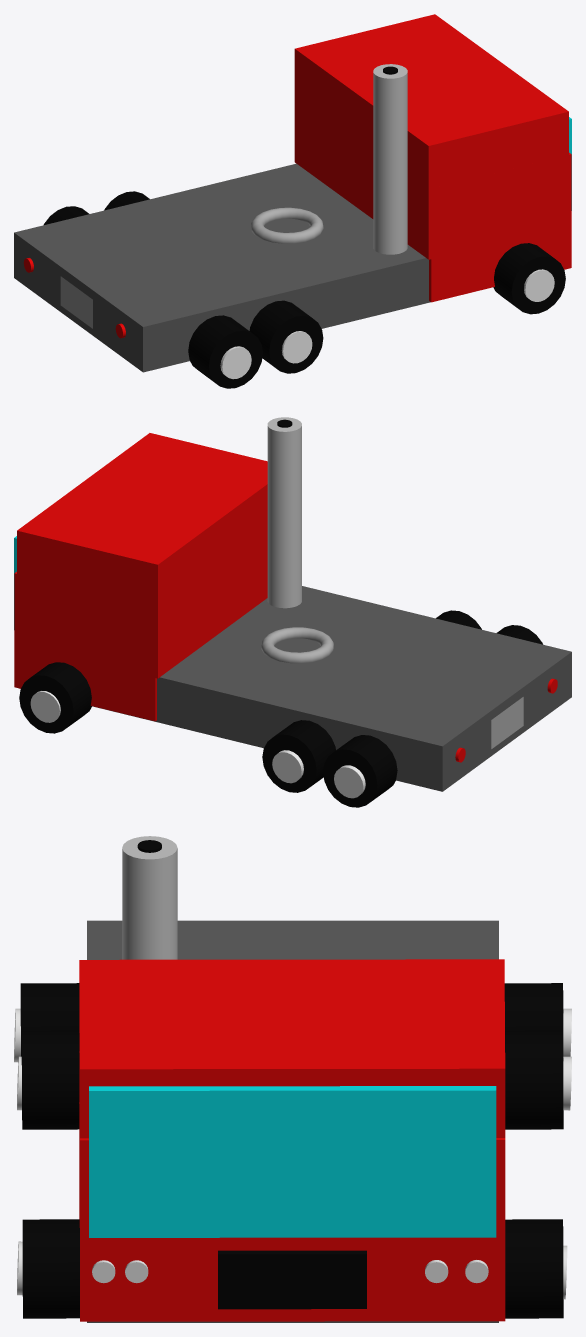
Rendered from EuroTruck.fbx.
3 renders of one model, top to bottom at view 1: azimuth 30°, elevation 25°; view 2: azimuth 150°, elevation 25°; view 3: azimuth 270°, elevation 25°, orthographic. The views are drawn at different scales.
Parts seen in each view (by area): view 1: pCube1, pCube2, pCube4, pCylinder13, pCylinder4, pCylinder1, pCylinder5, pTorus1, pPlane2, pCylinder7, pCylinder9, pCylinder11; view 2: pCube1, pCube2, pCylinder13, pCube4, pCylinder2, pCylinder6, pCylinder3, pTorus1, pPlane2, pCylinder8, pCylinder10, pCylinder12; view 3: pCube3, pCube2, pCube4, pCube1, pCube5, pCylinder13, pCylinder6, pCylinder3, pCylinder5, pCylinder1, pCylinder4, pCylinder2.
Boxes of the visible parts, x1,y1,x2,y2 form: pCube1: [14, 163, 430, 372]; pCube2: [294, 14, 568, 259]; pCube4: [429, 152, 571, 302]; pCylinder13: [373, 64, 407, 254]; pCylinder4: [188, 315, 262, 388]; pCylinder1: [493, 243, 565, 314]; pCylinder5: [249, 300, 323, 373]; pTorus1: [251, 207, 323, 243]; pPlane2: [60, 276, 92, 328]; pCylinder7: [220, 346, 251, 379]; pCylinder9: [524, 269, 554, 301]; pCylinder11: [281, 331, 312, 363]; pCube1: [92, 586, 571, 791]; pCube2: [17, 433, 267, 678]; pCylinder13: [267, 417, 301, 608]; pCube4: [14, 572, 156, 721]; pCylinder2: [323, 735, 397, 807]; pCylinder6: [19, 662, 91, 733]; pCylinder3: [262, 720, 335, 792]; pTorus1: [261, 627, 333, 663]; pPlane2: [491, 697, 523, 748]; pCylinder8: [334, 765, 365, 798]; pCylinder10: [272, 750, 303, 783]; pCylinder12: [30, 691, 60, 722]; pCube3: [89, 1086, 496, 1237]; pCube2: [79, 959, 505, 1138]; pCube4: [79, 1051, 505, 1321]; pCube1: [87, 920, 498, 1322]; pCube5: [218, 1250, 366, 1309]; pCylinder13: [122, 836, 177, 959]; pCylinder6: [505, 1219, 563, 1318]; pCylinder3: [505, 1030, 563, 1129]; pCylinder5: [21, 1030, 79, 1129]; pCylinder1: [22, 1219, 79, 1318]; pCylinder4: [20, 983, 79, 1056]; pCylinder2: [504, 983, 563, 1037].
Size of the model in its own units: 15.48 by 8.23 by 10.81.
